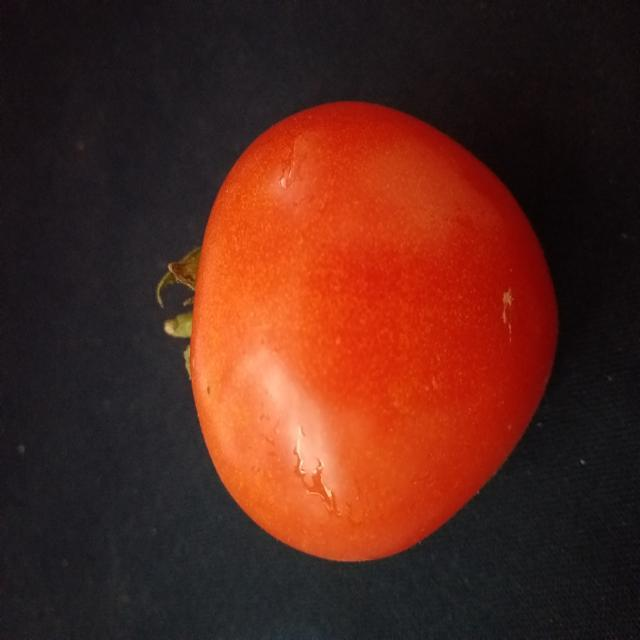tomato: (181, 86, 585, 607)
